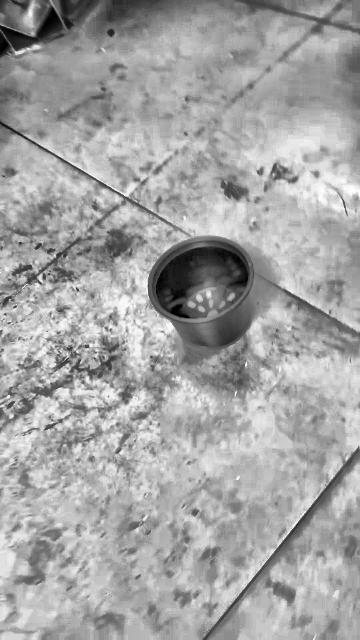pot: (147, 236, 253, 347)
